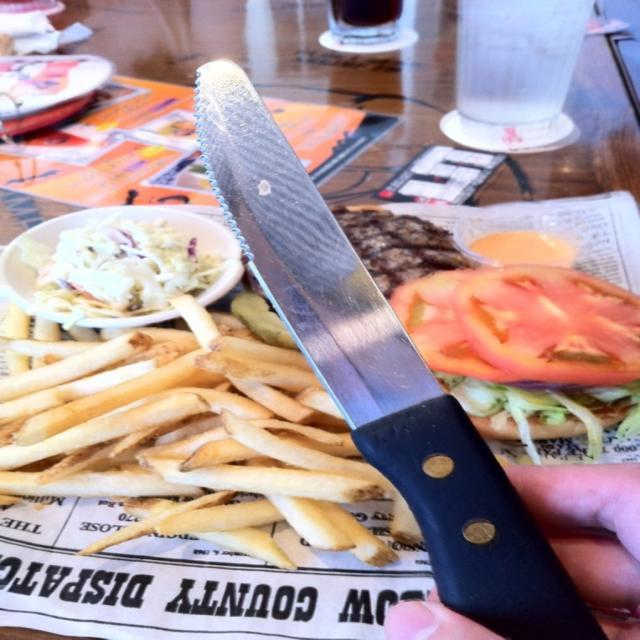Knife: (198, 60, 600, 640)
